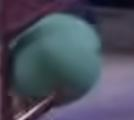algae: (9, 13, 102, 106)
